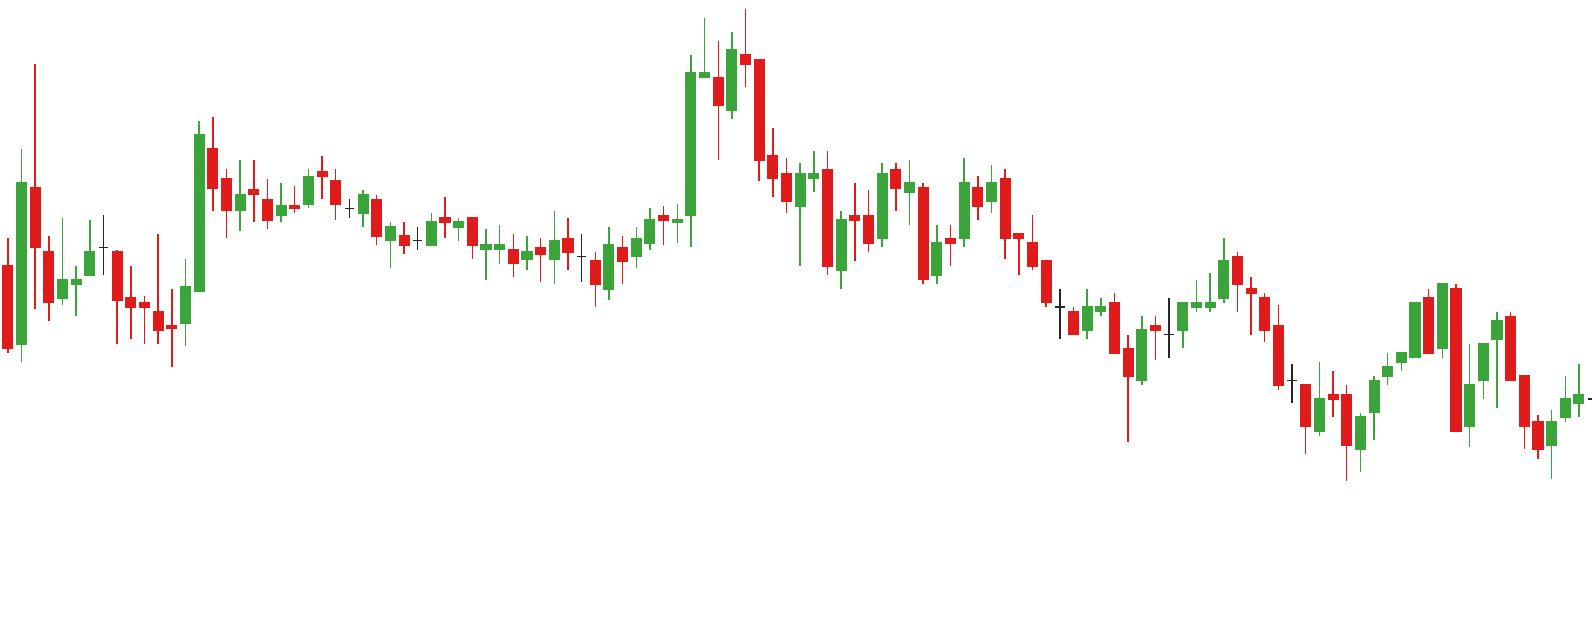buy: (1465, 346, 1558, 486)
sell: (903, 160, 985, 257)
